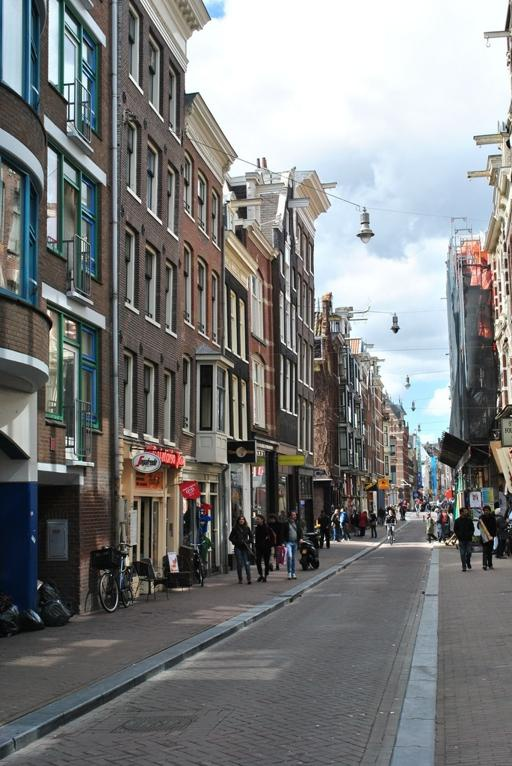non-vehicle: (97, 540, 137, 613), (189, 539, 206, 586), (383, 521, 396, 544)
